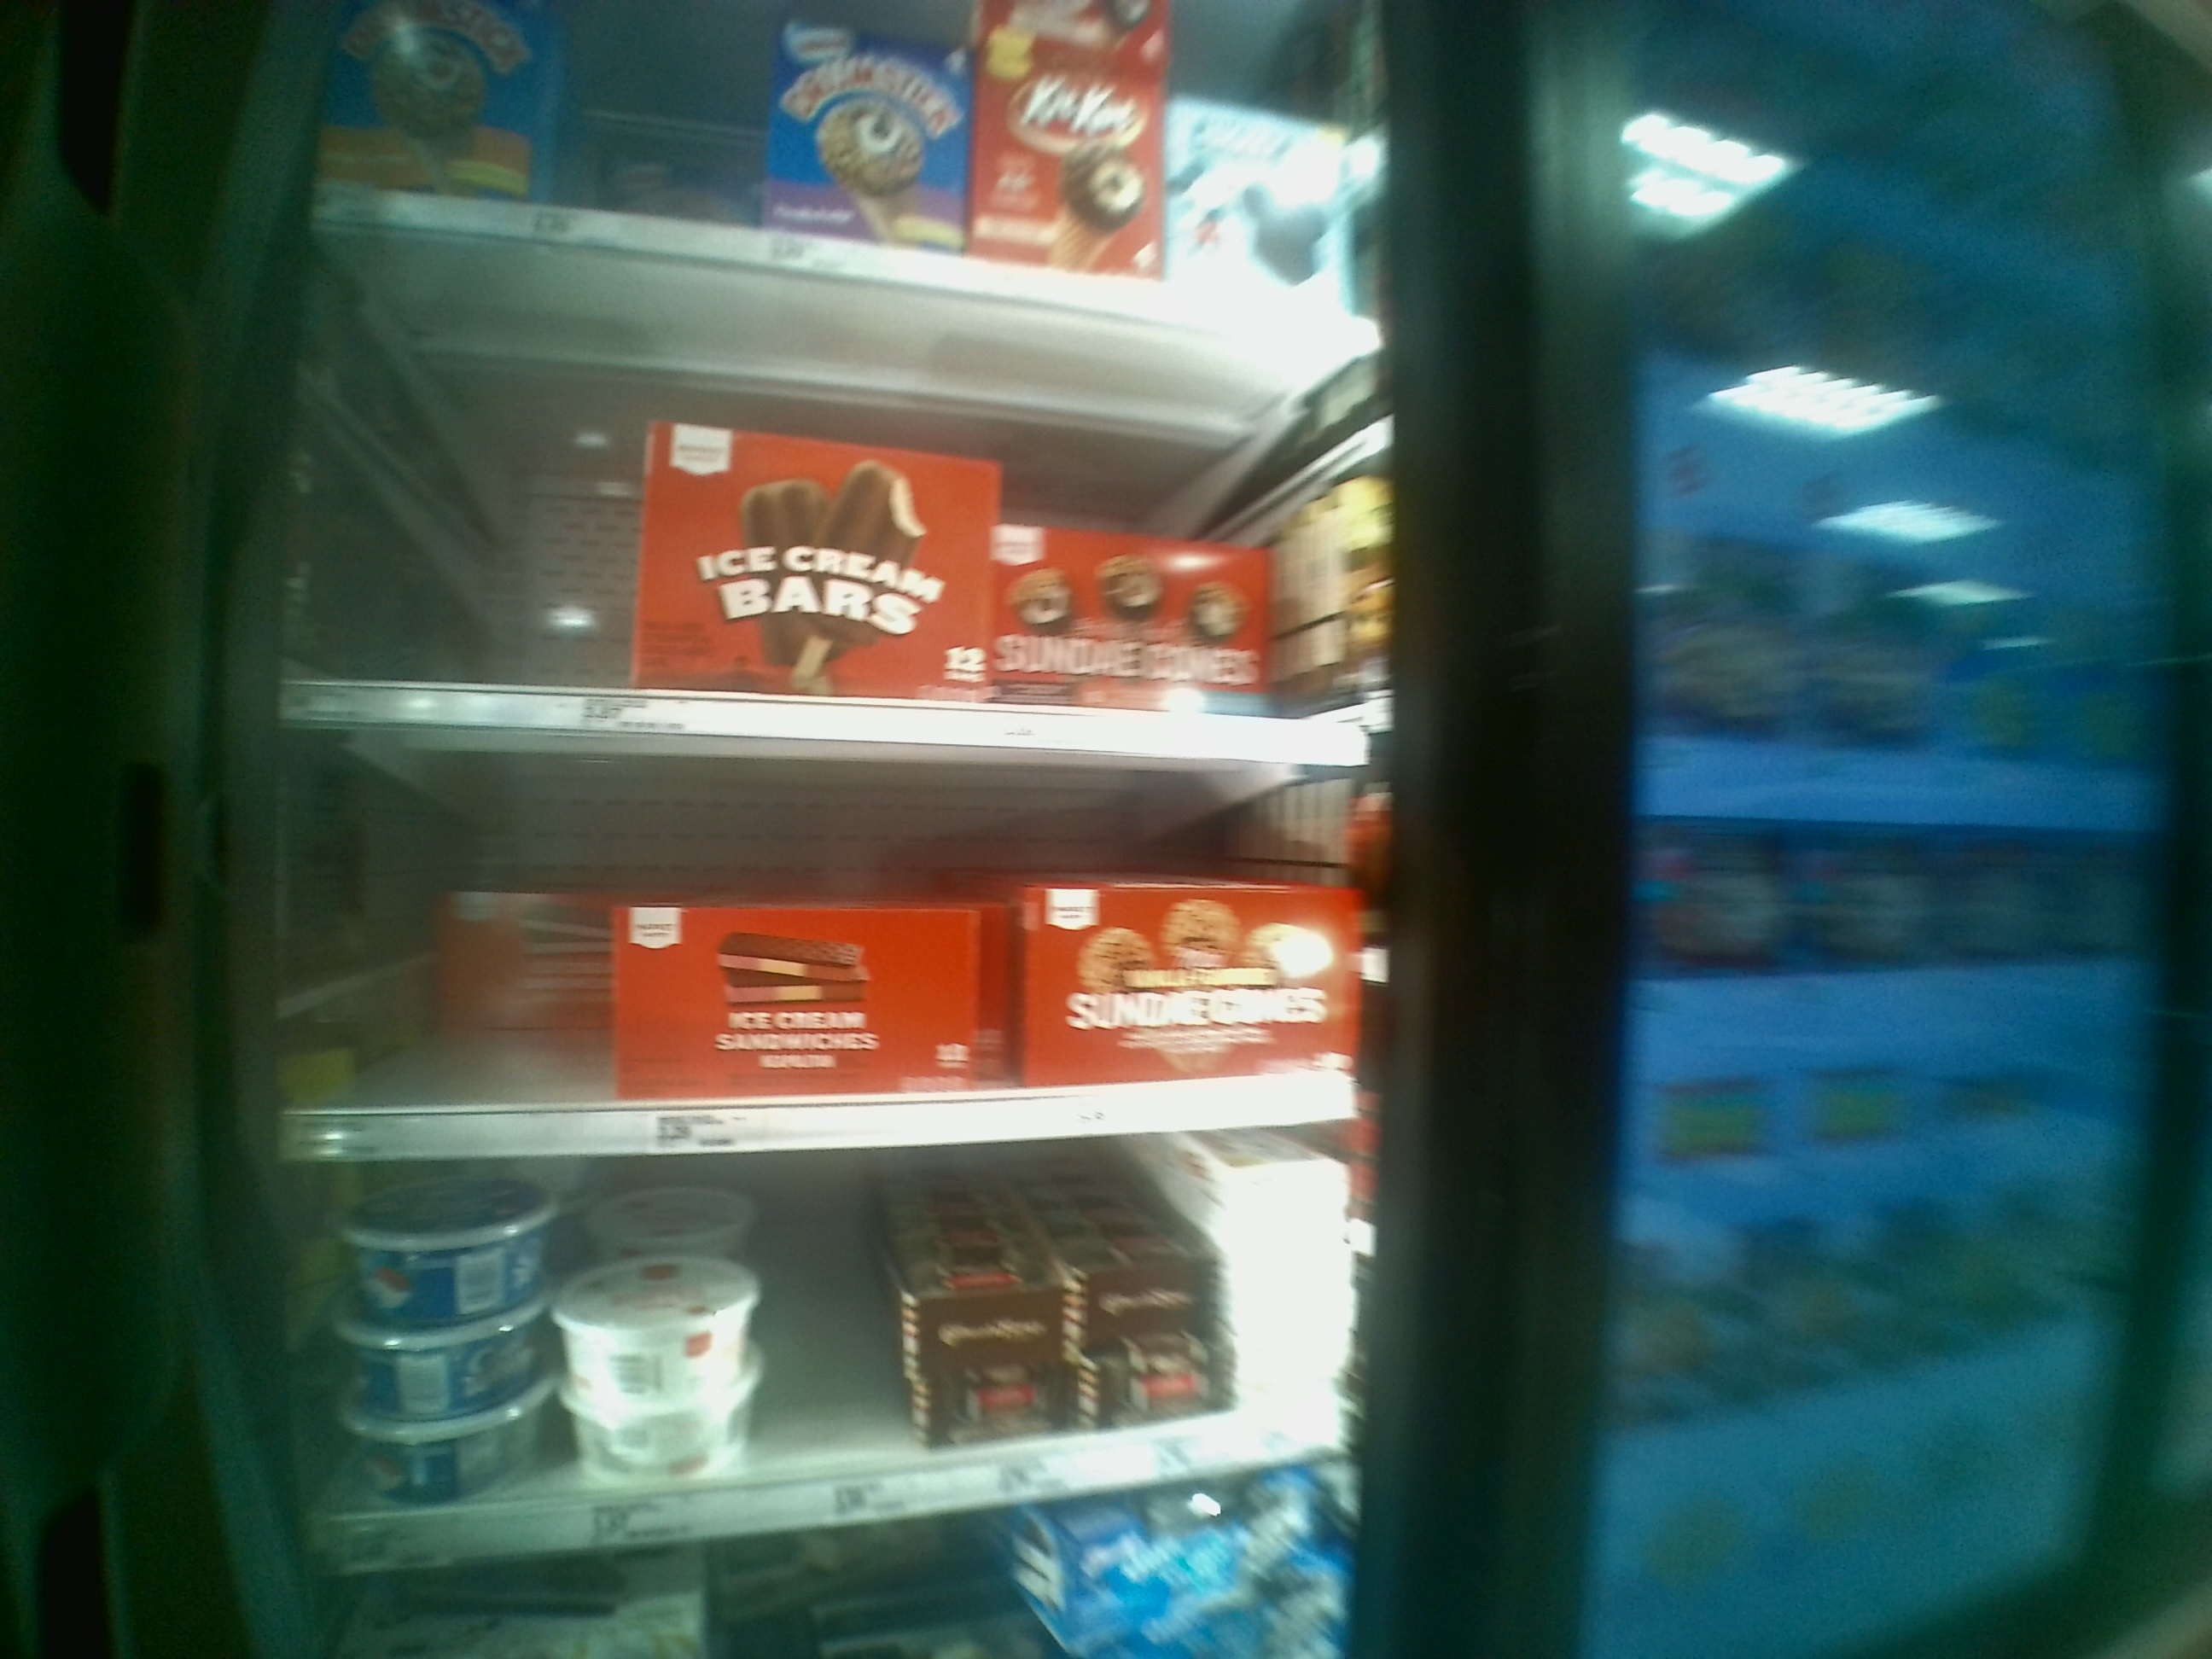shelf: (298, 288, 1372, 774), (284, 1162, 1359, 1579), (284, 779, 1362, 1169)
